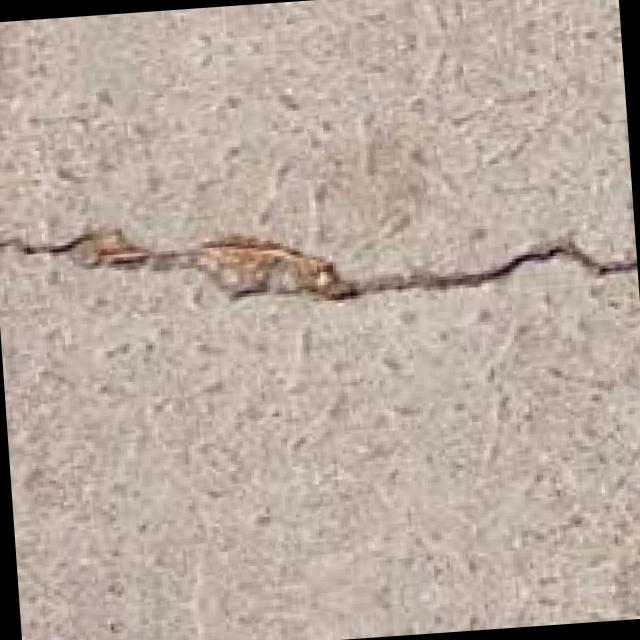crack: (0, 103, 638, 364)
